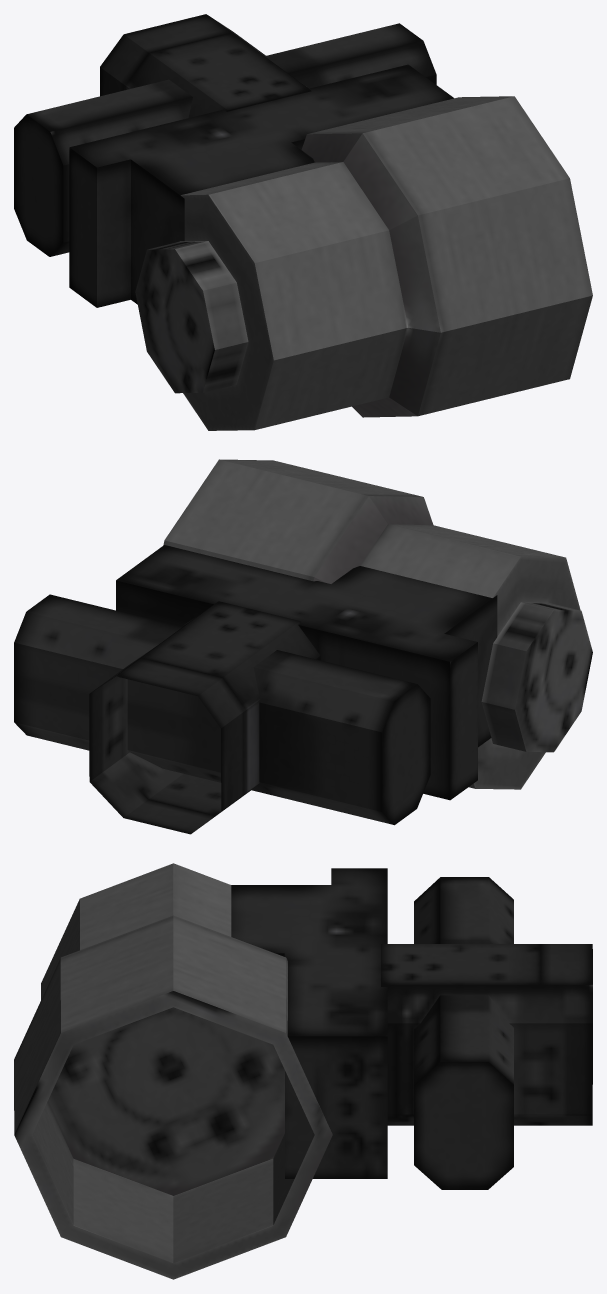
File: r_uarm.dae
3 renders of one model, top to bottom at view 1: azimuth 30°, elevation 25°; view 2: azimuth 150°, elevation 25°; view 3: azimuth 270°, elevation 25°, orthographic. The views are drawn at different scales.
Visible parts, largest first — view 1: drc_r_sh_ry; view 2: drc_r_sh_ry; view 3: drc_r_sh_ry.
Boxes of the visible parts, x1,y1,x2,y2 form: drc_r_sh_ry: (14, 14, 592, 430); drc_r_sh_ry: (14, 459, 592, 834); drc_r_sh_ry: (14, 863, 592, 1279).
Size of the model in its own units: 0.1299 by 0.1684 by 0.0927.
